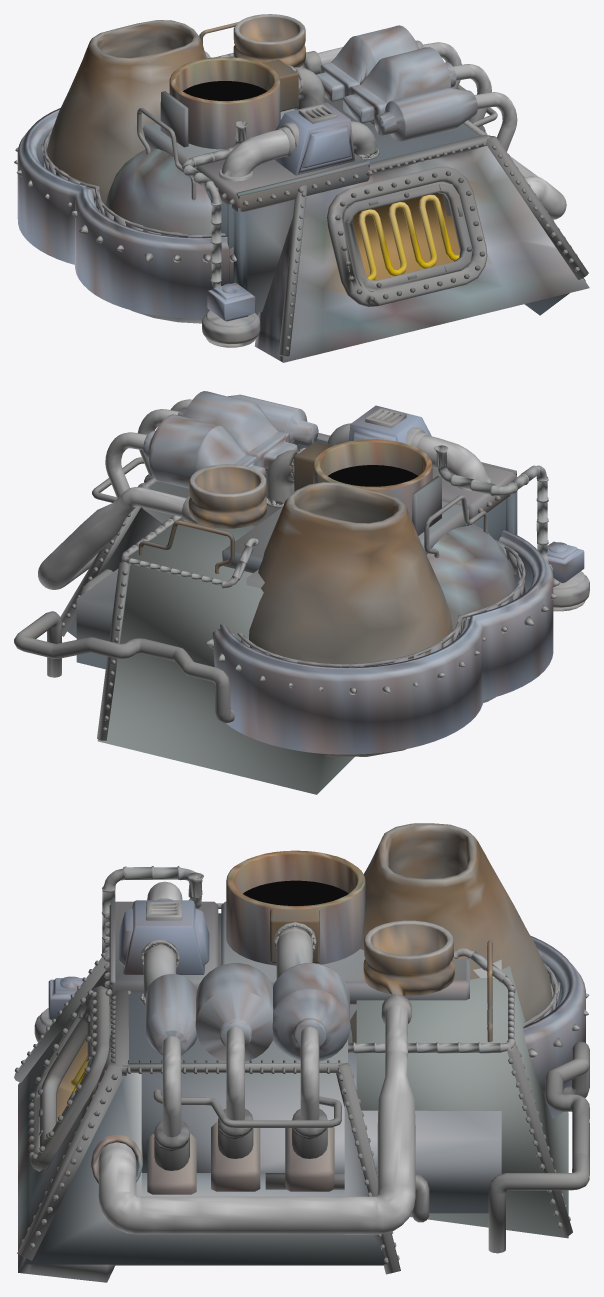
File: electric-furnace.0.glb
3 views of the same model, one above another, from view 1: azimuth 30°, elevation 25°; view 2: azimuth 150°, elevation 25°; view 3: azimuth 270°, elevation 25° (orthographic). The views are drawn at different scales.
Visible parts, largest first — view 1: modelo; view 2: modelo; view 3: modelo.
Part boxes in pixels (<box>): modelo: <box>14,14,589,362</box>; modelo: <box>14,391,589,794</box>; modelo: <box>14,823,589,1282</box>.
Size of the model in its own units: 6.54 by 3.3 by 6.16.
